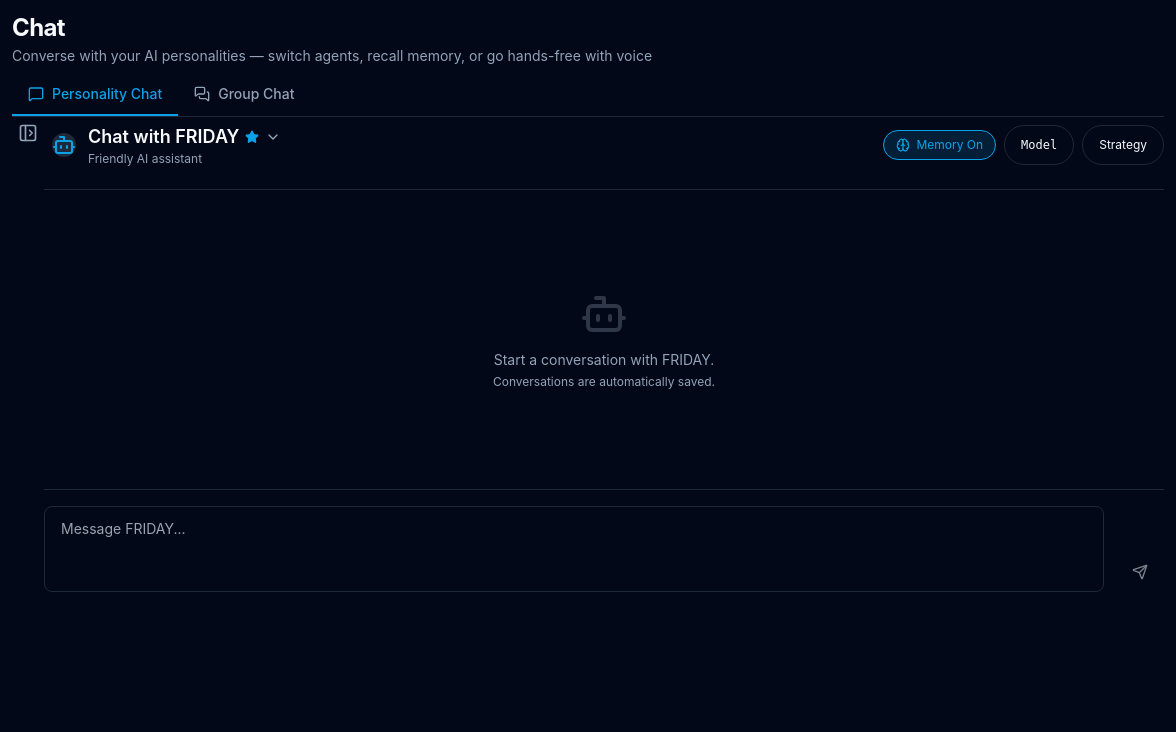
Test: ChatPage › sends a message and displays the response
Step 1. Type "Hello!" into the text box with placeholder "Message FRIDAY..." → (574, 549), box x1=44 y1=506 x2=1104 y2=592
Then press Enter
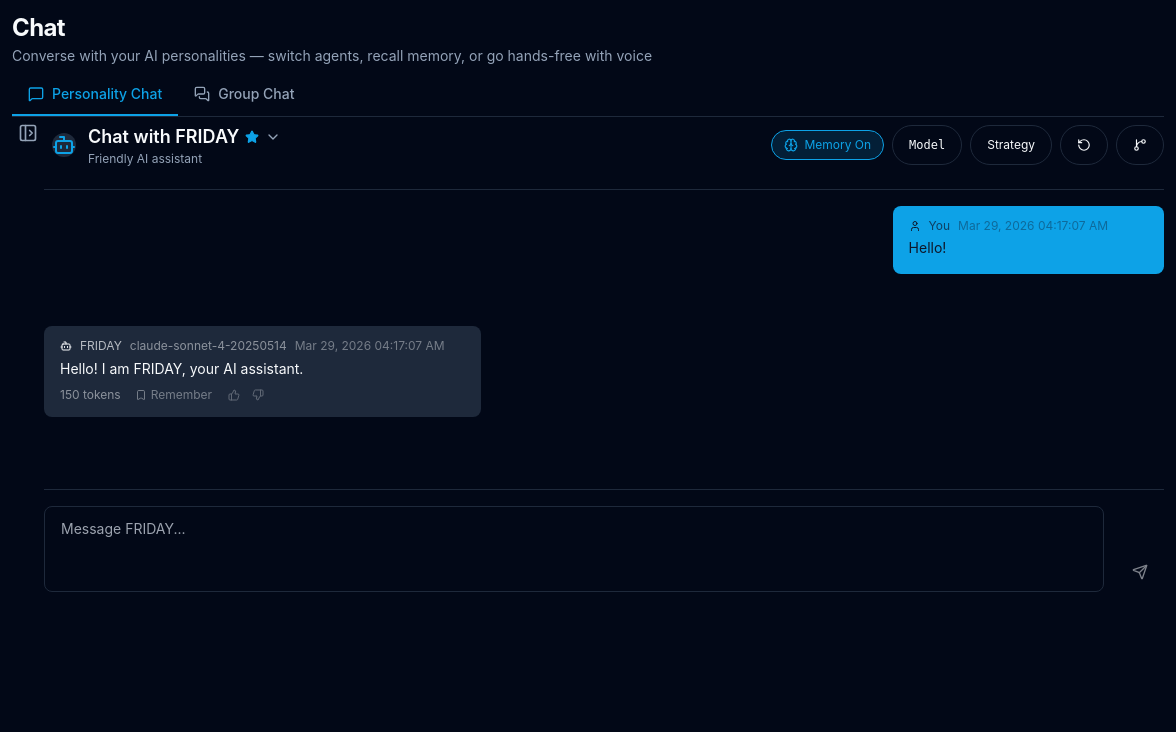
Expected: the text "Hello!" is shown, x1=909 y1=239 x2=946 y2=256
Expected: the text "Hello! I am FRIDAY, your AI assistant." is shown, x1=60 y1=360 x2=303 y2=377
